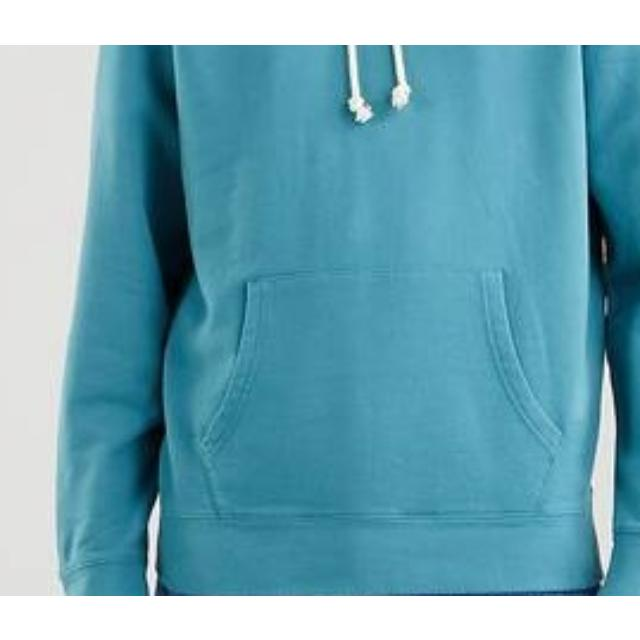cotton: (96, 44, 640, 584)
